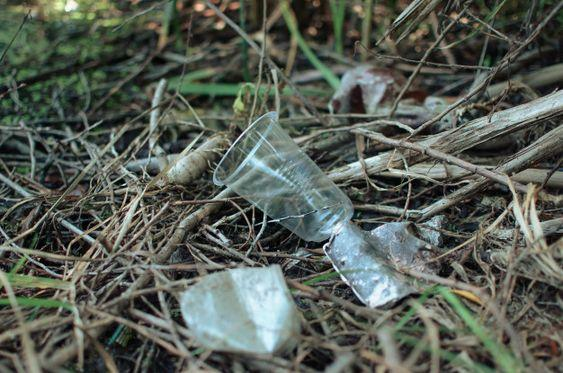PETE: (212, 112, 353, 241)
